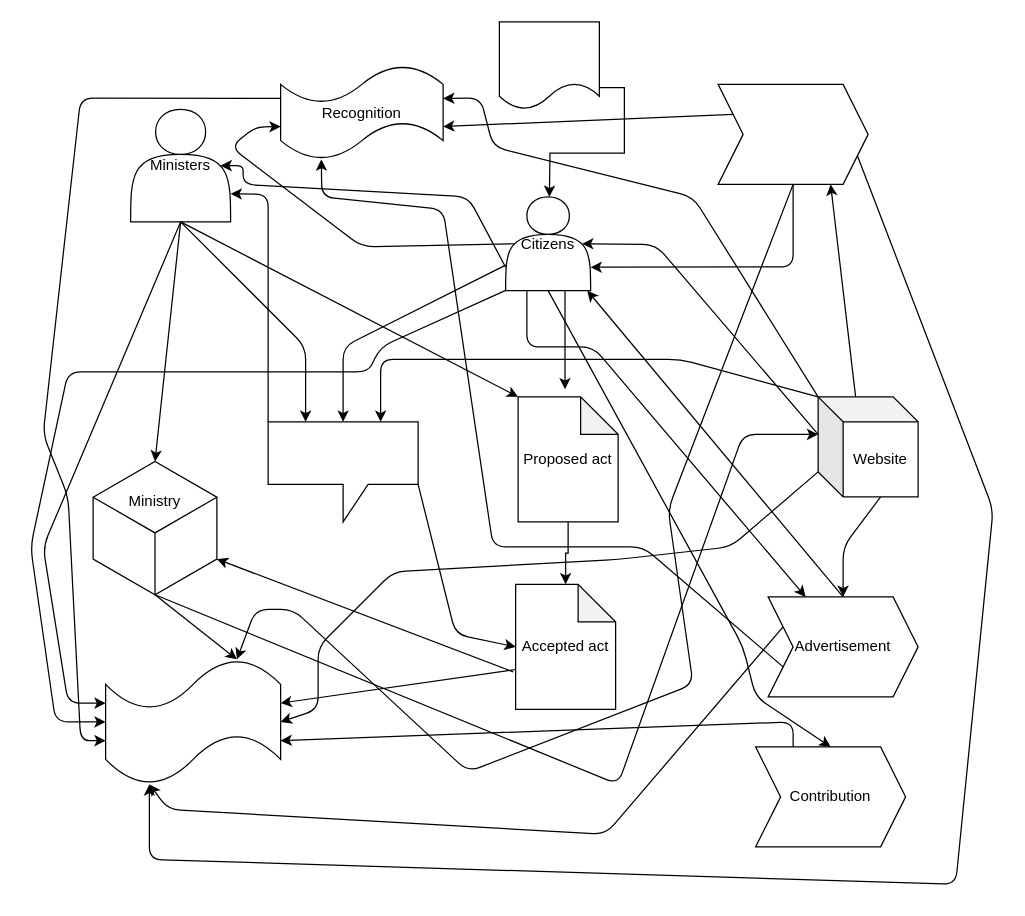
Image size: 1025x916. Some labels were removed from this diagram. Each missing label, with the centre of its shape:
Constitution: the point at 548,65
Growth: the point at 192,721
Recruitment: the point at 792,133
Voting: the point at 342,471
